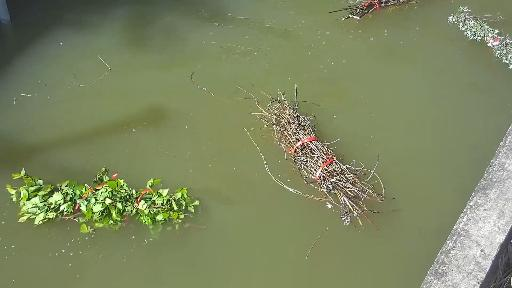twig: (227, 77, 384, 241), (8, 161, 211, 237), (453, 0, 512, 66), (341, 0, 455, 23)
